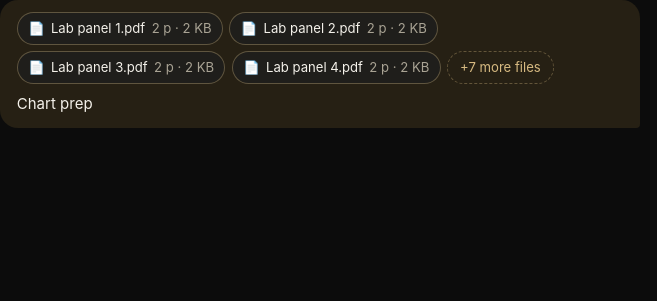
Test case: Large files read before the answer › a message with many files shows the first four and a button for the rest
Expected: the number of list items with class "attach-chip" is 4, [17,12,223,45]; [229,12,438,45]; [17,51,225,84]; [232,51,441,84]
Click the button "+7 more files" at [500, 67], box [447,51,554,84]
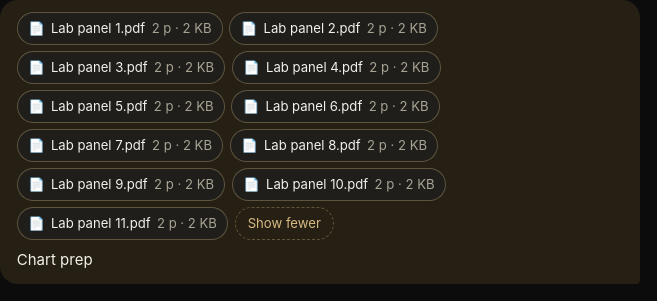
Result: the number of list items with class "attach-chip" is 11
Click the button "Show fewer" at [284, 223], box [235,207,334,240]
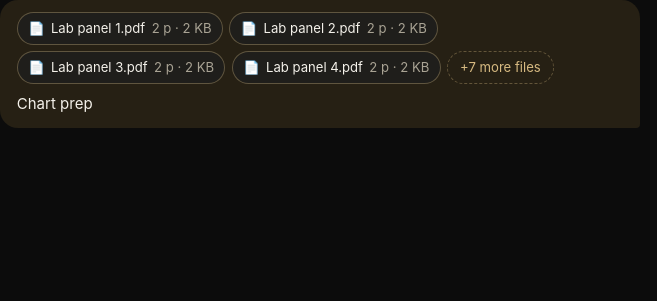
Result: the number of list items with class "attach-chip" is 4 at [17,12,223,45]; [229,12,438,45]; [17,51,225,84]; [232,51,441,84]
